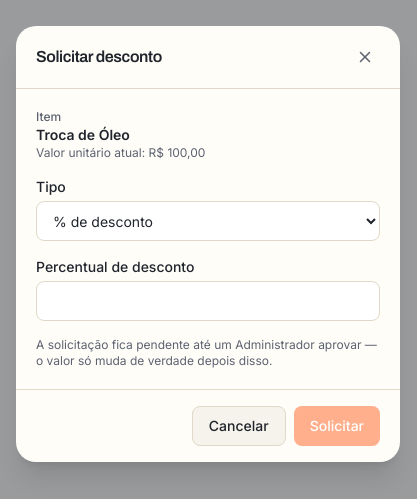
Scenario: SolicitarDescontoModal › previews the typed value directly in "valor" mode
The width and height of the screenshot is (417, 499).
Select "Novo valor unitário" in the dropdown: {"x": 208, "y": 221} [36,201,380,241]
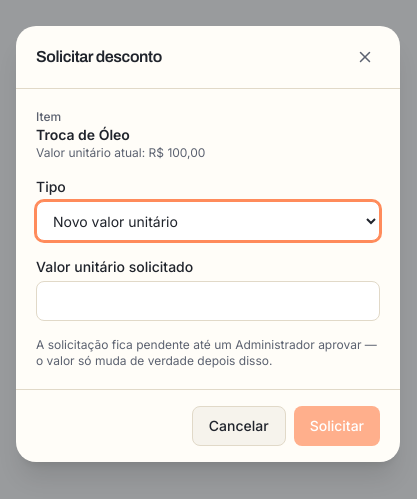
In the number field: {"x": 208, "y": 301} [36,281,380,321], type "75"
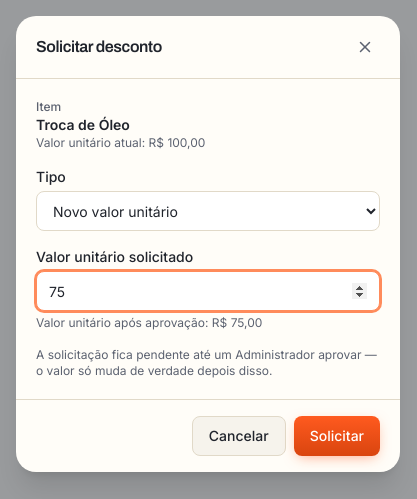
Result: the text "Valor unitário após aprovação: R$ 75,00" is shown at [36,315,262,330]
